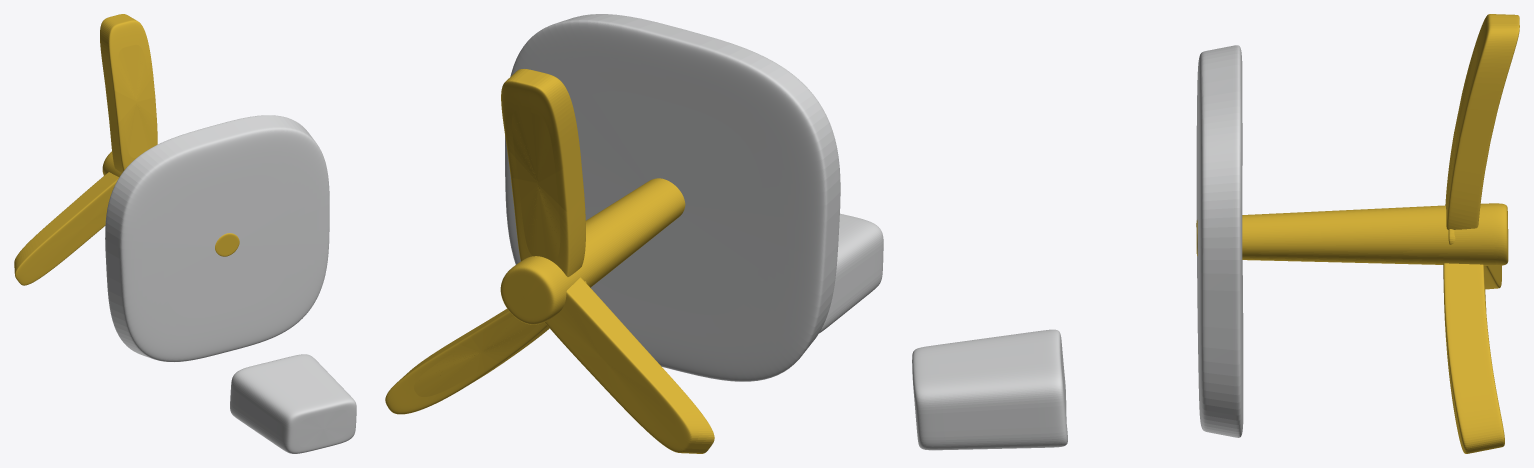
File: 23_20260605T231612Z_office_chair_sq.glb
The picture shows the model from 3 angles, left to right: view 1: azimuth 30°, elevation 25°; view 2: azimuth 150°, elevation 25°; view 3: azimuth 270°, elevation 25°; orthographic projection. The views are drawn at different scales.
Parts seen in each view (by area): view 1: superquadric_0, superquadric_2, superquadric_4, superquadric_3, superquadric_1; view 2: superquadric_0, superquadric_4, superquadric_3, superquadric_1, superquadric_5, superquadric_2; view 3: superquadric_0, superquadric_2, superquadric_1, superquadric_4, superquadric_5.
Part boxes in pixels (x1,y1,x2,y2): superquadric_0: (105,115,329,361); superquadric_2: (230,354,356,453); superquadric_4: (100,14,157,172); superquadric_3: (14,172,118,285); superquadric_1: (102,151,239,256); superquadric_0: (505,14,840,381); superquadric_4: (501,69,585,276); superquadric_3: (545,277,714,453); superquadric_1: (500,178,685,324); superquadric_5: (385,281,586,414); superquadric_2: (819,213,883,333); superquadric_0: (1196,45,1243,437); superquadric_2: (912,329,1067,450); superquadric_1: (1196,203,1508,265); superquadric_4: (1445,14,1519,229); superquadric_5: (1443,263,1504,453).
Bounding box in the file's own units: 0.6156 × 0.7462 × 1.
